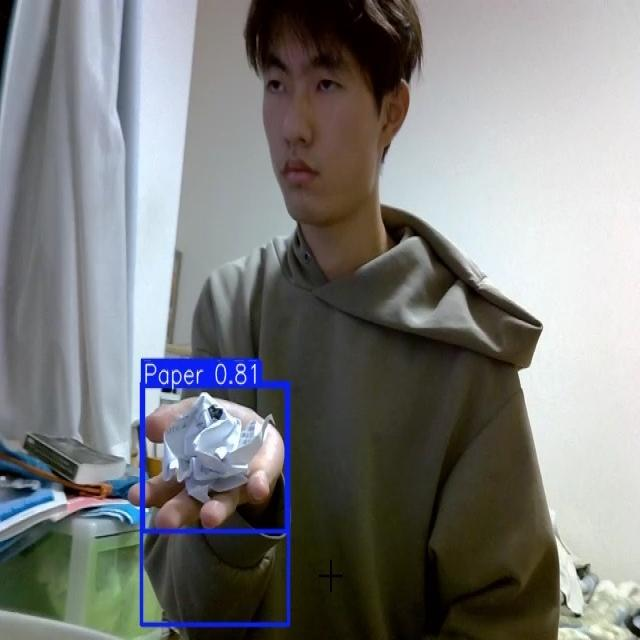paper: (160, 391, 275, 504)
